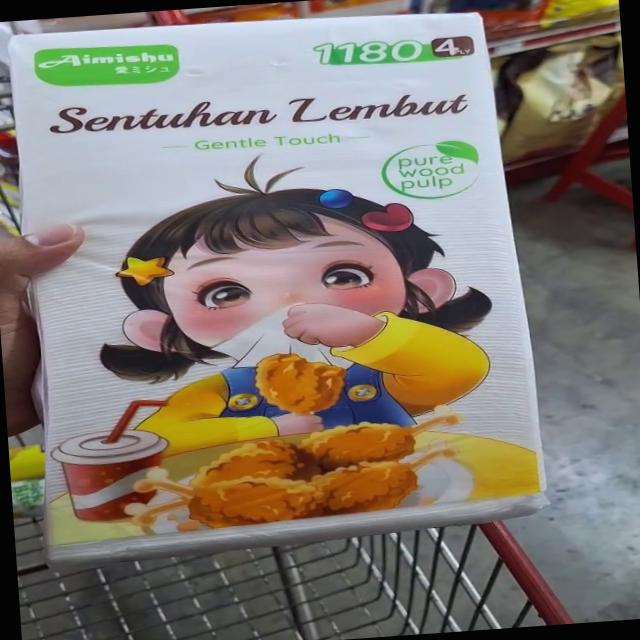Tisu: (2, 200, 598, 570), (0, 0, 547, 291)
